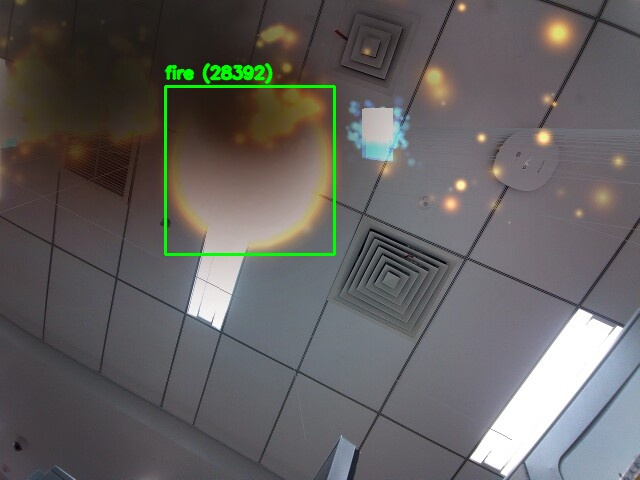fire: (165, 86, 334, 254)
